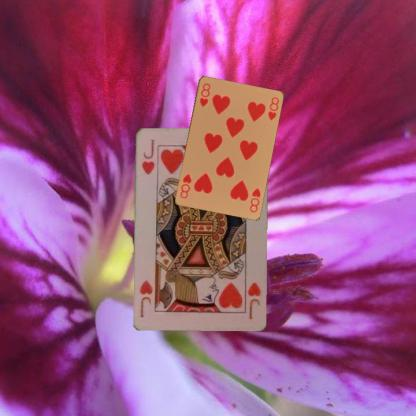8h: (247, 185, 262, 213), (197, 80, 211, 108)
Jh: (139, 136, 156, 176), (245, 280, 262, 320)
